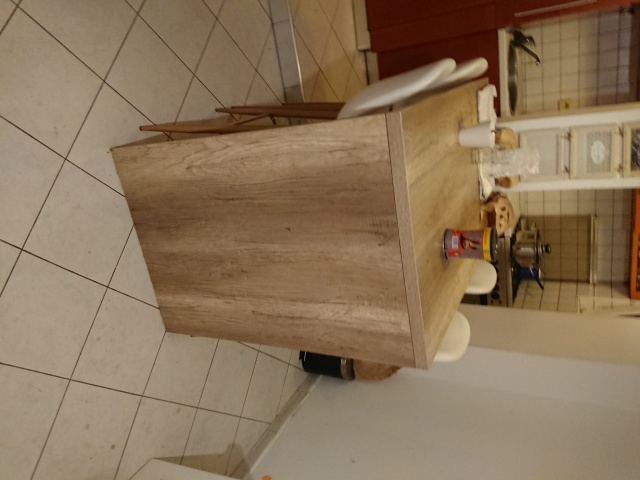Nescafe Classic 225g: (440, 225, 500, 266)
